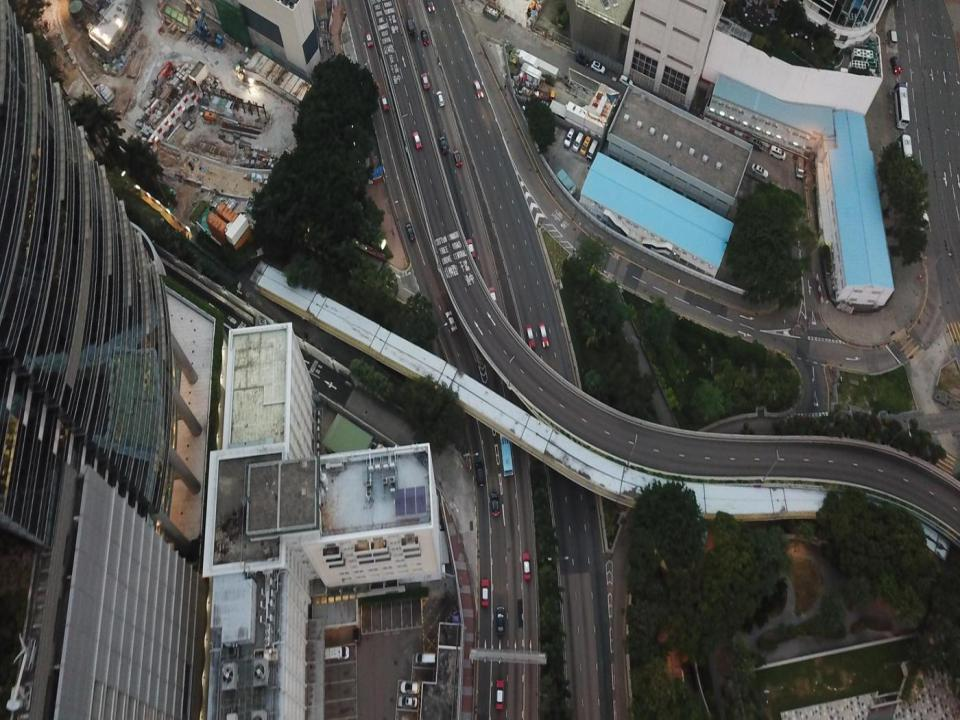car: (913, 209, 931, 248), (751, 164, 768, 179), (539, 322, 549, 347), (495, 681, 504, 708), (476, 461, 485, 487), (496, 606, 504, 635), (400, 682, 419, 694), (446, 310, 456, 332), (526, 324, 535, 348), (890, 57, 902, 75), (473, 79, 484, 98), (398, 696, 417, 707), (522, 553, 530, 579), (490, 494, 499, 515), (482, 579, 489, 605), (489, 287, 498, 307), (420, 73, 430, 90), (405, 223, 415, 240), (439, 135, 448, 153), (466, 239, 474, 258), (413, 132, 422, 148), (436, 90, 445, 106), (380, 94, 388, 111), (420, 30, 428, 46), (365, 31, 373, 46), (426, 0, 434, 12)
truck: (498, 427, 514, 476), (898, 134, 914, 178), (895, 82, 909, 130), (325, 645, 350, 659), (416, 653, 436, 665), (587, 139, 598, 159), (580, 135, 590, 156), (796, 157, 804, 177)
van: (572, 132, 584, 152), (770, 145, 786, 160), (564, 127, 574, 147), (590, 60, 605, 73), (619, 75, 633, 88), (887, 29, 897, 47), (575, 55, 589, 66), (454, 151, 462, 165), (407, 18, 414, 33)
